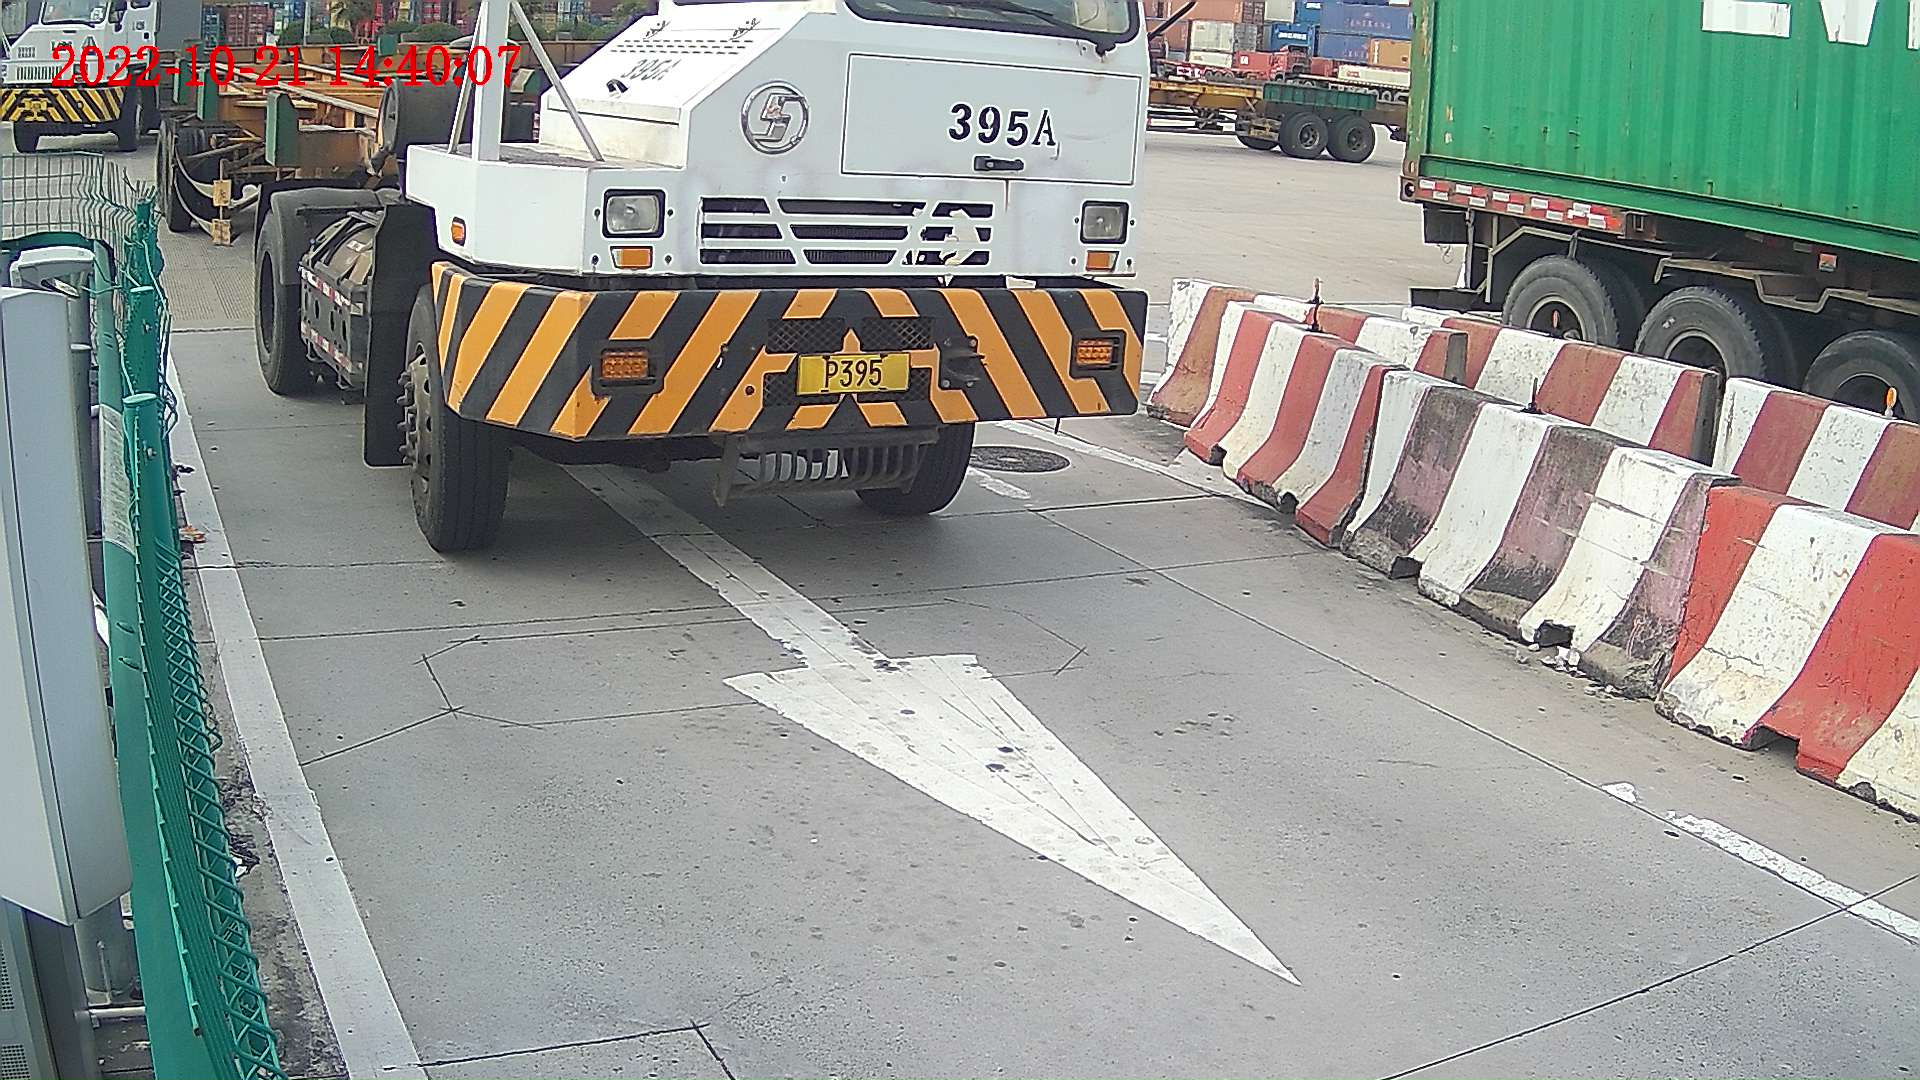head: (384, 1, 1150, 561)
plate: (796, 352, 909, 394)
